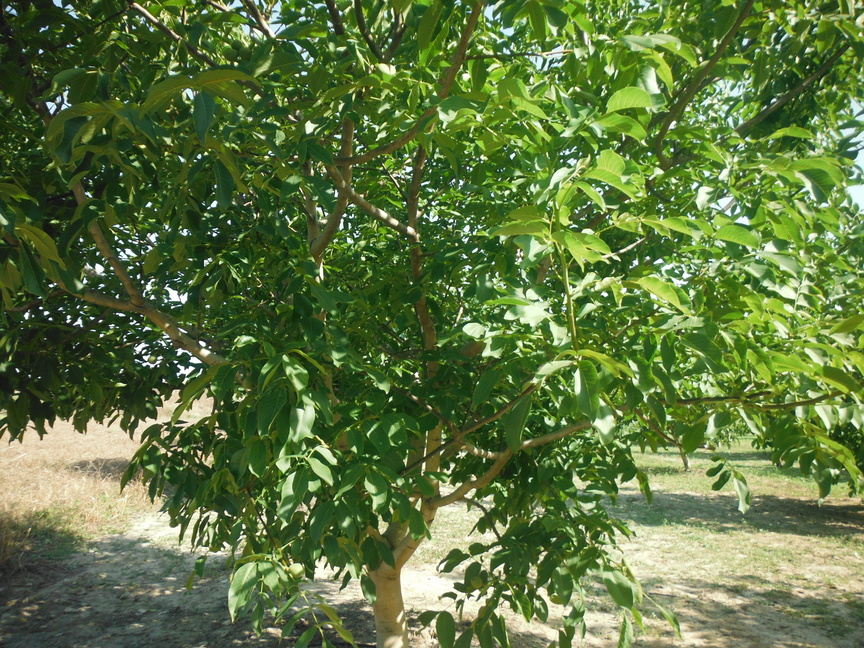walnut: (286, 559, 306, 579), (374, 61, 392, 79), (468, 574, 485, 591), (241, 372, 256, 391), (222, 46, 239, 62), (239, 45, 254, 62), (384, 63, 398, 80), (145, 353, 160, 366), (229, 37, 243, 50), (167, 517, 179, 532), (177, 512, 187, 527)
